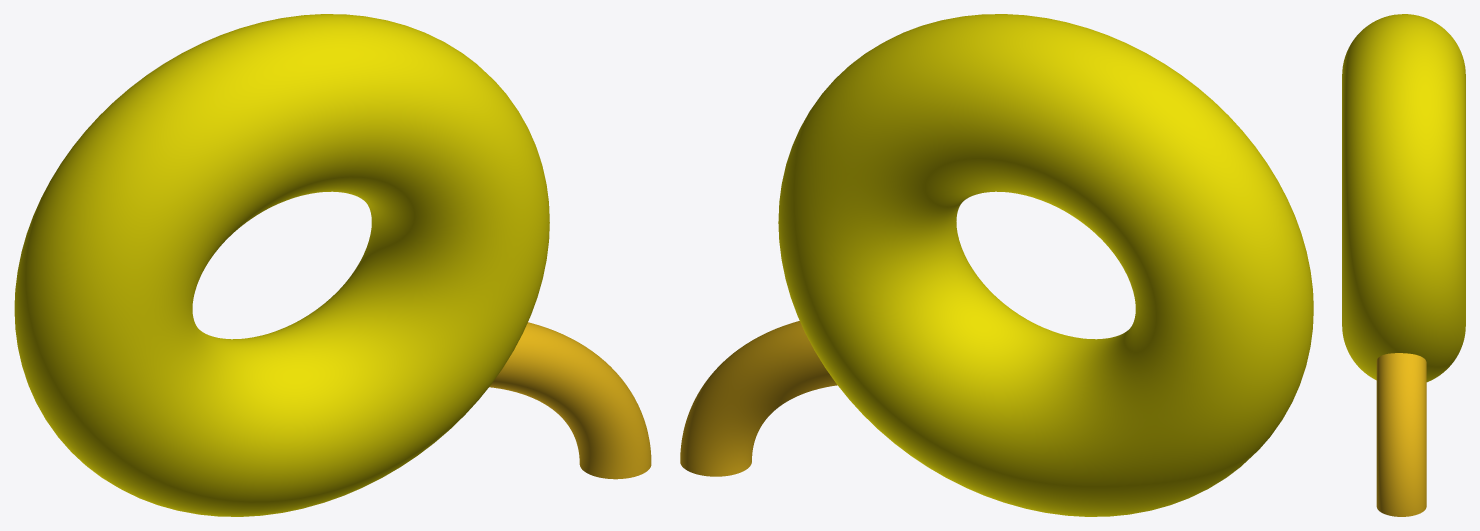
File: search_3d.glb
3 views of the same model, side by side, from view 1: azimuth 30°, elevation 25°; view 2: azimuth 150°, elevation 25°; view 3: azimuth 270°, elevation 25° (orthographic). The views are drawn at different scales.
Parts seen in each view (by area): view 1: mesh_id32, mesh_id36; view 2: mesh_id32, mesh_id36; view 3: mesh_id32, mesh_id36.
Part boxes in pixels (bbox=[...]): mesh_id32: bbox=[14, 14, 549, 516]; mesh_id36: bbox=[489, 322, 651, 479]; mesh_id32: bbox=[778, 14, 1313, 516]; mesh_id36: bbox=[680, 321, 837, 476]; mesh_id32: bbox=[1342, 14, 1465, 382]; mesh_id36: bbox=[1376, 353, 1426, 516].
Bounding box in the file's own units: 0.0425 × 0.0339 × 0.0106.
2 materials, 2 textured.
